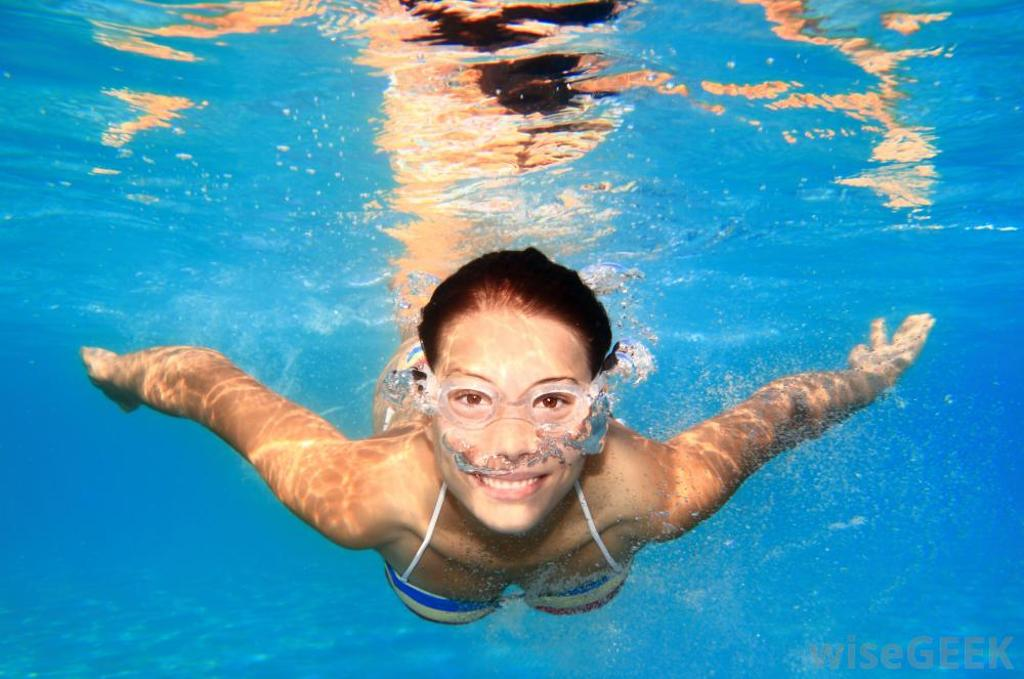face: (442, 346, 588, 532)
